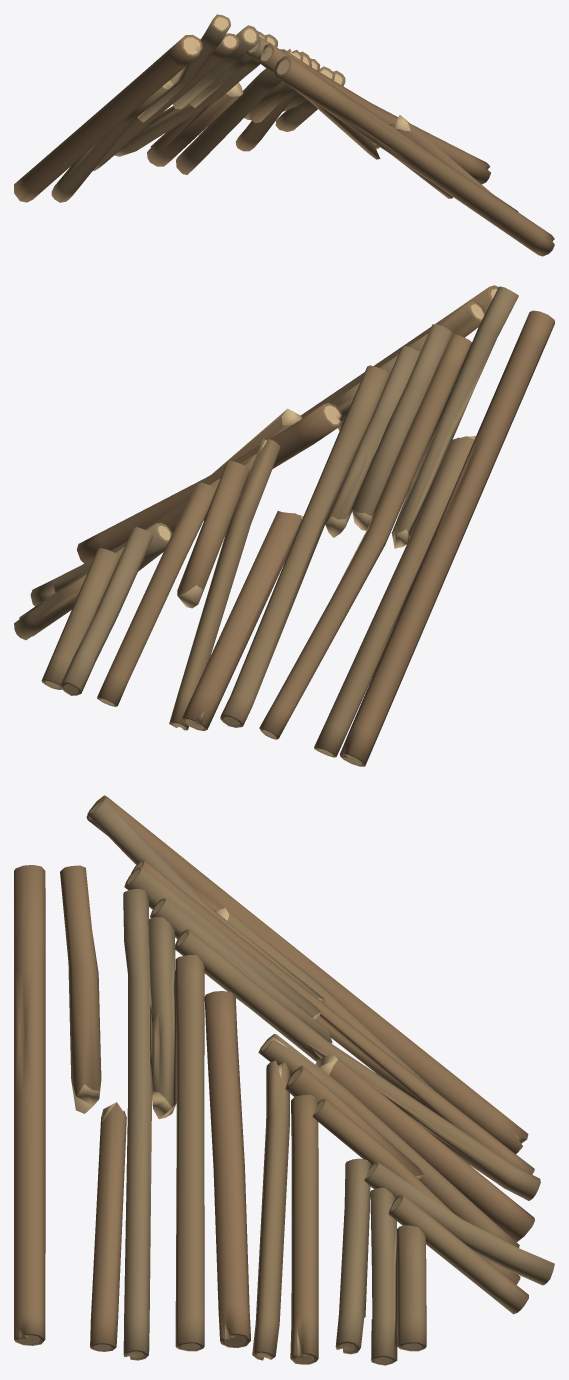
Rendered from rpgpp_av_roof_01_9x4x3_corner_02.gltf.
3 views of the same model, one above another, from view 1: azimuth 30°, elevation 25°; view 2: azimuth 150°, elevation 25°; view 3: azimuth 270°, elevation 25° (orthographic). The views are drawn at different scales.
Visible parts, largest first — view 1: rpgpp_av_roof_01_9x4x3_corner_02; view 2: rpgpp_av_roof_01_9x4x3_corner_02; view 3: rpgpp_av_roof_01_9x4x3_corner_02.
Boxes of the visible parts, box(x1,y1,x2,y2) form: rpgpp_av_roof_01_9x4x3_corner_02: box(14, 14, 554, 256); rpgpp_av_roof_01_9x4x3_corner_02: box(14, 285, 554, 766); rpgpp_av_roof_01_9x4x3_corner_02: box(14, 795, 554, 1365).
Bounding box in the file's own units: 0.0715 × 0.0576 × 0.0731.
1 material, 1 textured.
